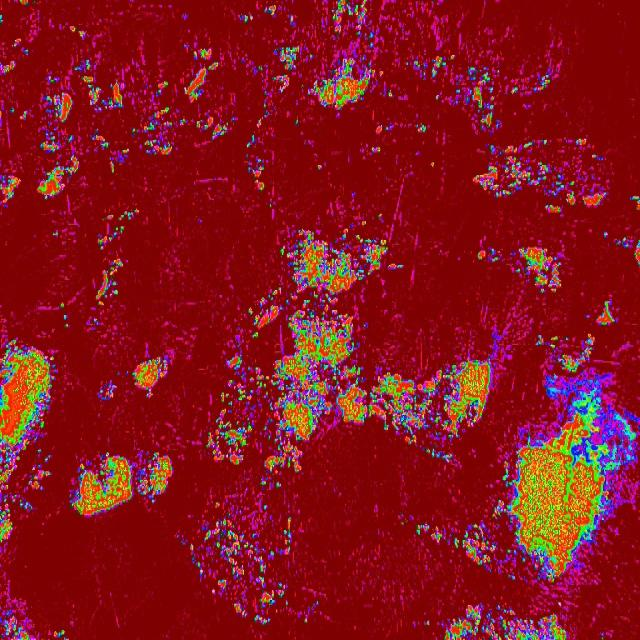fire: (203, 222, 494, 486), (495, 332, 640, 582), (174, 500, 294, 628), (0, 340, 56, 544), (472, 138, 610, 210), (69, 452, 172, 516), (141, 106, 242, 156), (36, 90, 79, 200), (444, 602, 568, 640), (308, 56, 372, 114), (454, 64, 504, 138), (509, 246, 561, 296), (76, 58, 121, 114), (91, 125, 140, 176), (450, 518, 494, 570), (96, 206, 139, 250), (133, 352, 171, 394), (270, 44, 299, 98), (184, 60, 219, 104), (95, 261, 124, 313), (330, 0, 370, 36), (0, 605, 41, 640), (248, 103, 270, 155), (414, 54, 450, 82), (610, 233, 640, 263), (586, 300, 619, 325), (0, 176, 25, 207), (246, 158, 266, 193), (414, 524, 448, 544), (64, 17, 90, 42), (99, 376, 120, 404), (184, 44, 216, 62), (8, 32, 30, 56), (532, 72, 553, 97), (304, 598, 320, 628), (58, 302, 72, 332), (238, 8, 257, 28), (378, 116, 396, 136), (154, 76, 168, 98), (288, 11, 301, 34), (46, 69, 62, 87), (397, 512, 415, 528), (414, 120, 429, 139), (0, 62, 17, 78), (508, 81, 522, 100), (628, 193, 640, 214), (264, 3, 278, 19), (492, 246, 503, 266), (370, 142, 383, 156), (316, 160, 328, 175), (368, 29, 376, 51), (52, 227, 62, 243), (55, 627, 67, 640), (290, 115, 302, 127), (386, 88, 396, 102), (21, 107, 31, 121), (598, 628, 608, 640), (428, 158, 438, 170), (256, 62, 266, 74), (600, 230, 610, 240), (16, 0, 32, 6), (424, 616, 432, 628), (260, 88, 268, 100), (376, 212, 384, 222), (268, 200, 276, 210), (0, 12, 5, 26), (8, 106, 16, 114)
